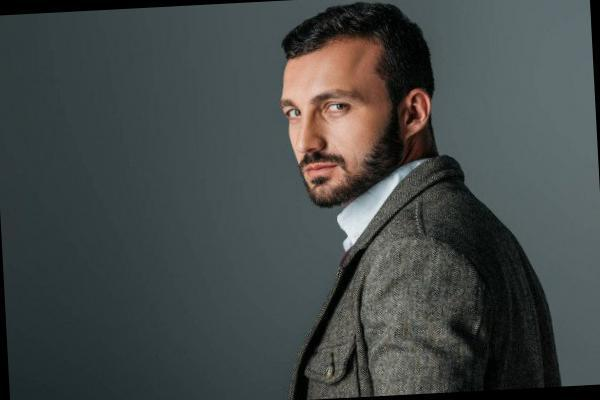Sober: (281, 60, 394, 190)
